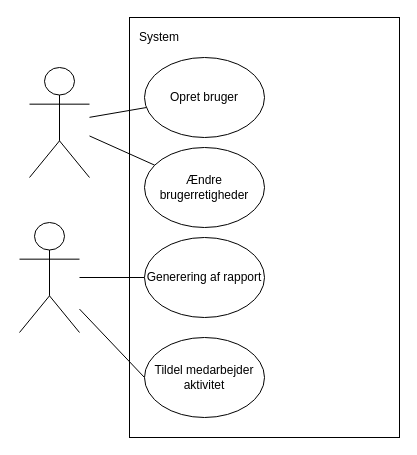
Image size: 417x455. Some labels were removed from this diagram. Each missing label, with the centre of its shape:
"Administrator" belongs at pixel 59 122.
"Projektleder" belongs at pixel 49 277.
